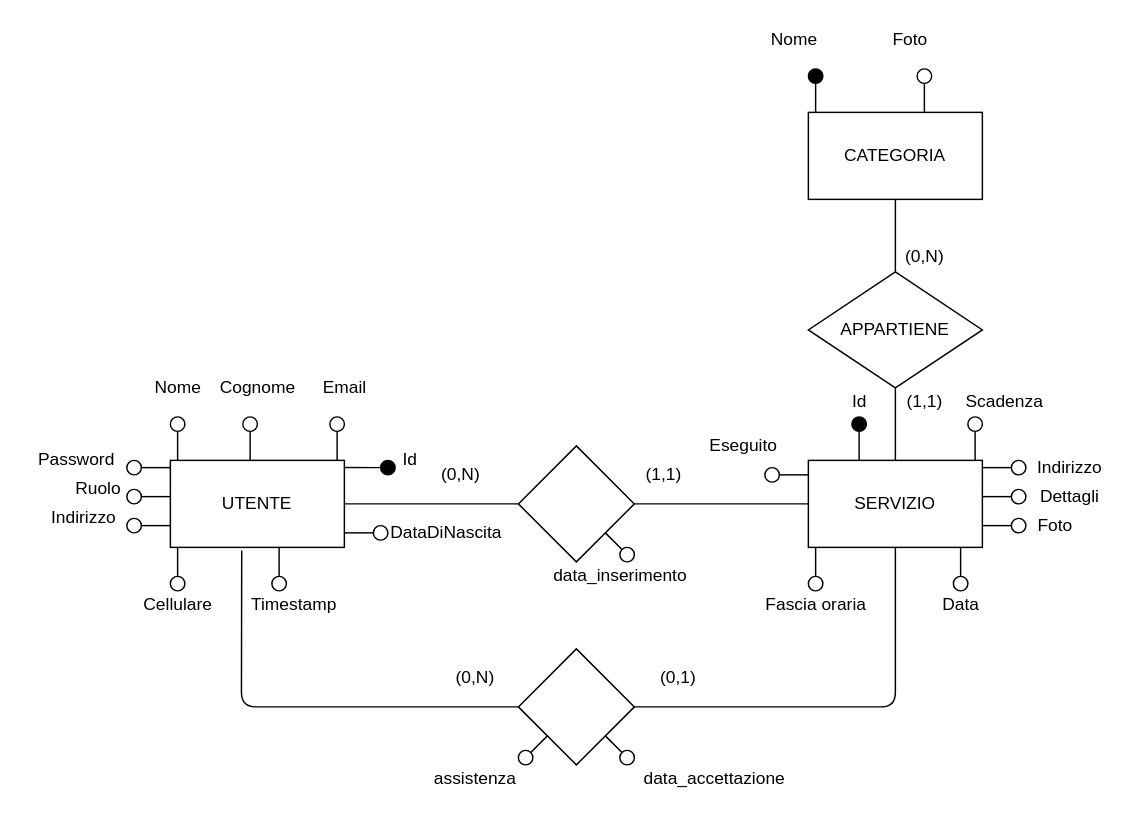
This 1137x818 diagram has some shape labels left out. Here are the shapes that lost their labels. From the top down, the box of each, then its label:
(517, 444, 634, 562): RICHIEDE
(517, 647, 634, 765): SVOLGERE
